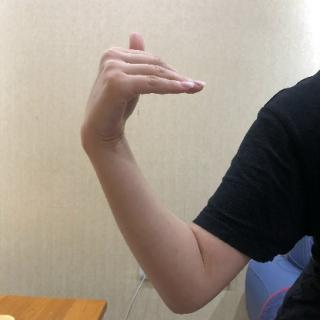KHAA: (76, 29, 207, 154)
